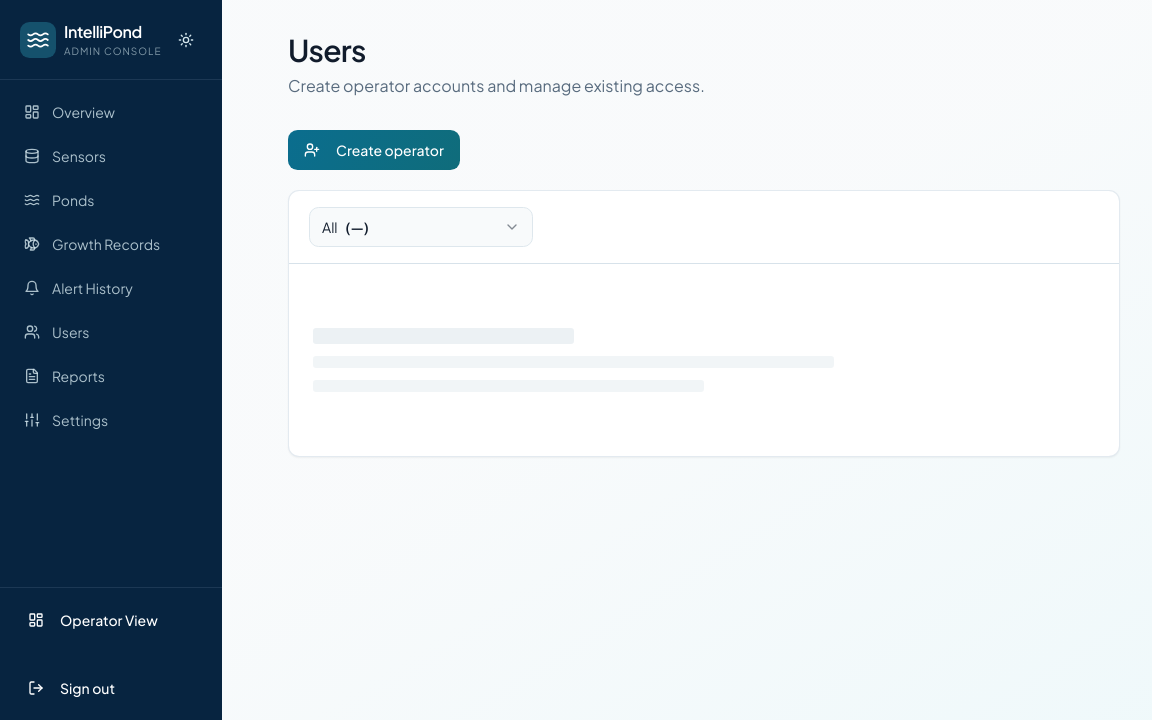
Test case: admin operator creation › submits a new account and closes the form
Click the button "Create operator" at (374, 150), box [288,130,460,170]
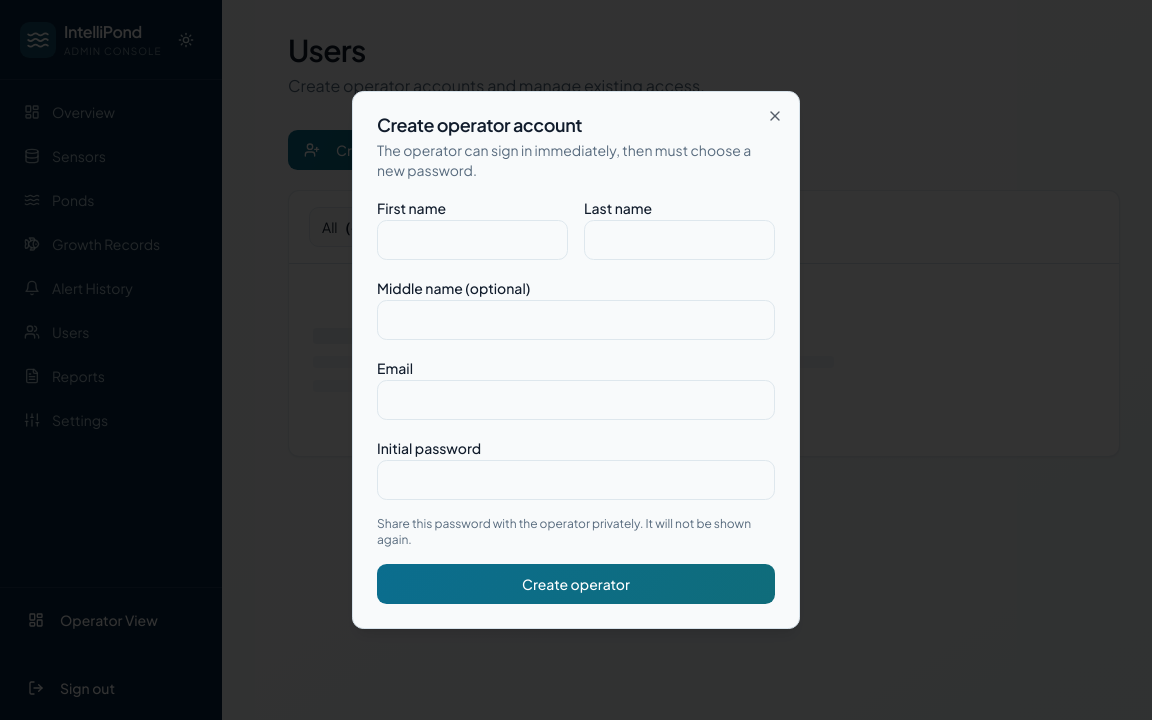
Type "Alex" into the field labelled "First name" at (472, 240), box [377,220,568,260]
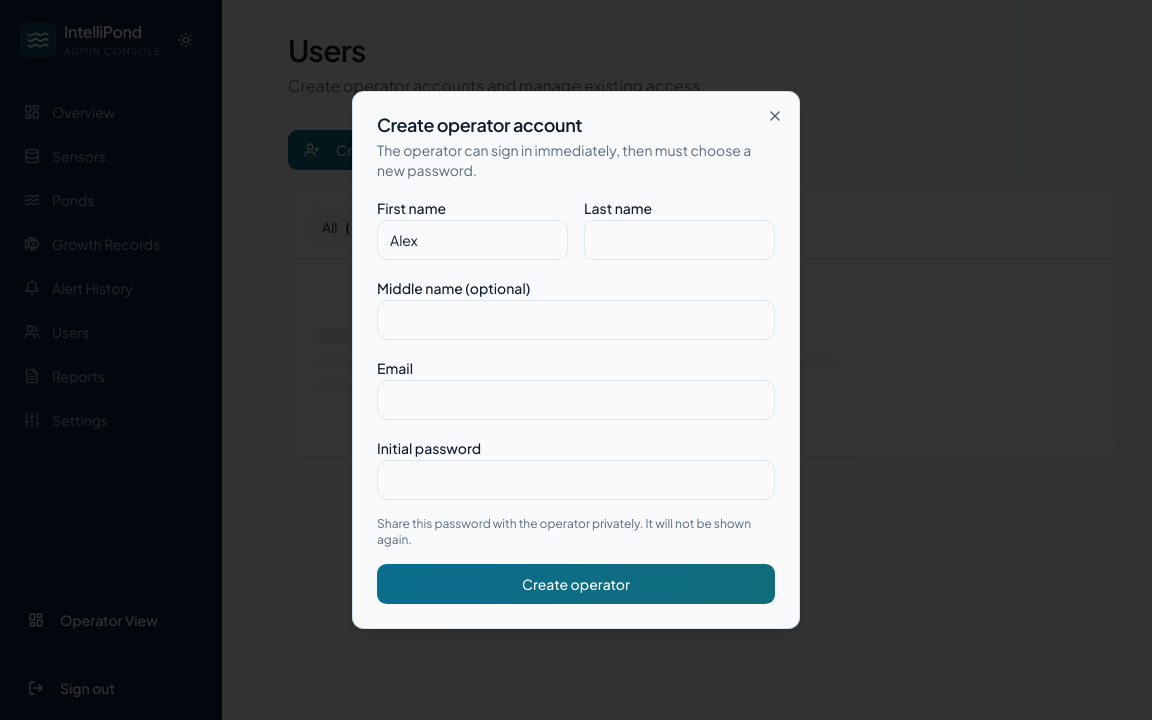
Type "Operator" into the field labelled "Last name" at (680, 240), box [584,220,775,260]
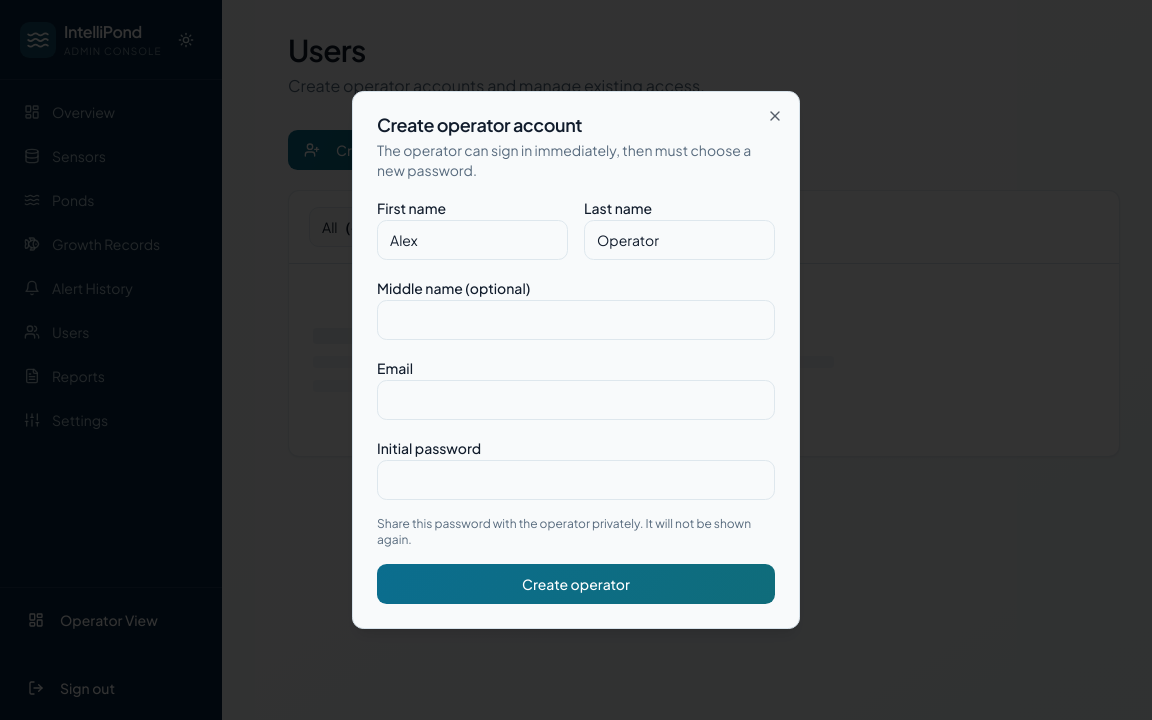
Type "alex@example.com" into the field labelled "Email" at (576, 400), box [377,380,775,420]
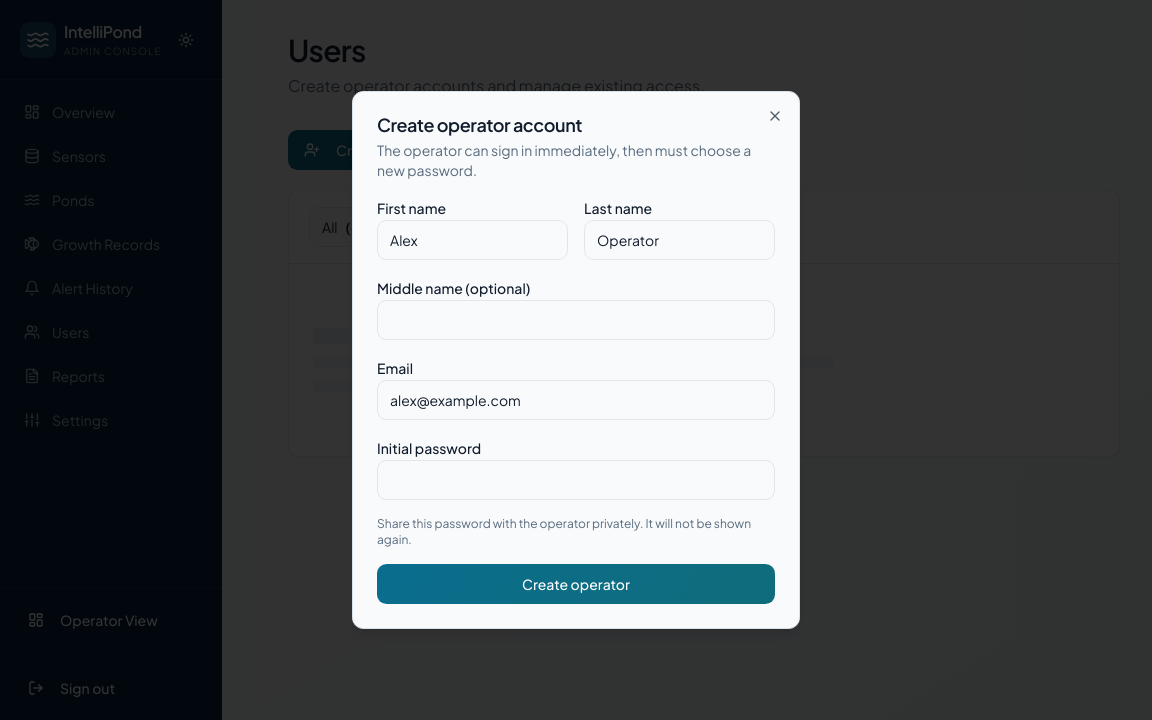
Type "initial-pass-123" into the password field labelled "Initial password" at (576, 480), box [377,460,775,500]
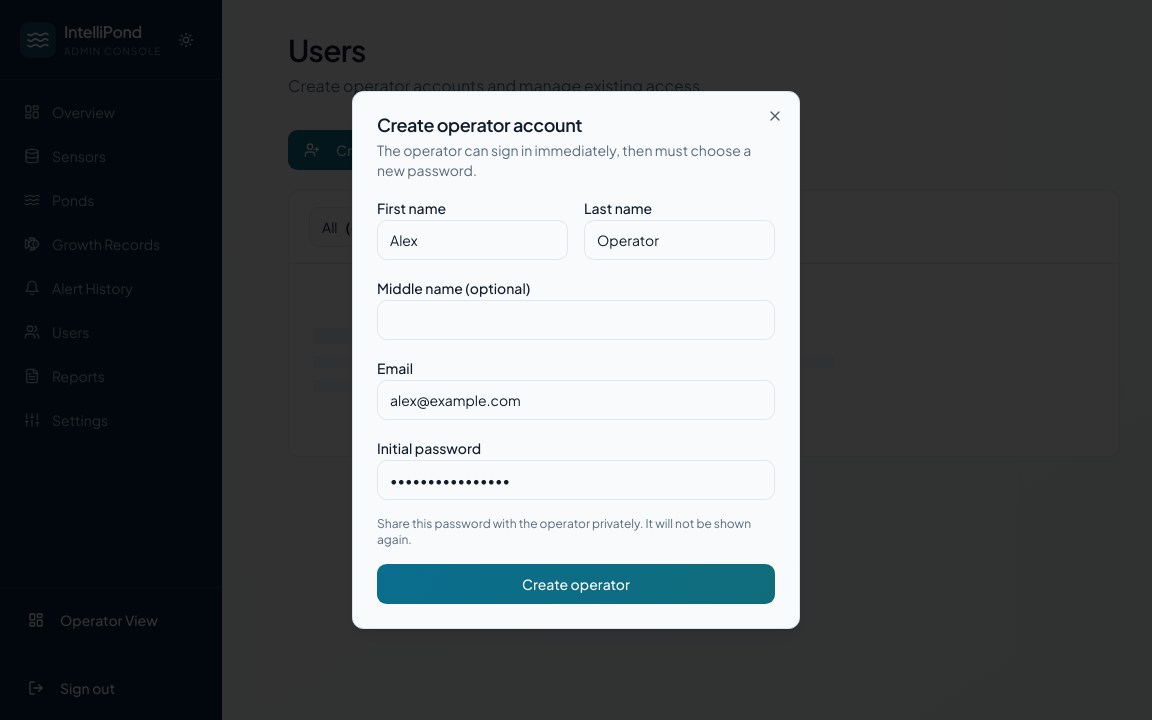
Click the button "Create operator" at (576, 584), box [377,564,775,604]
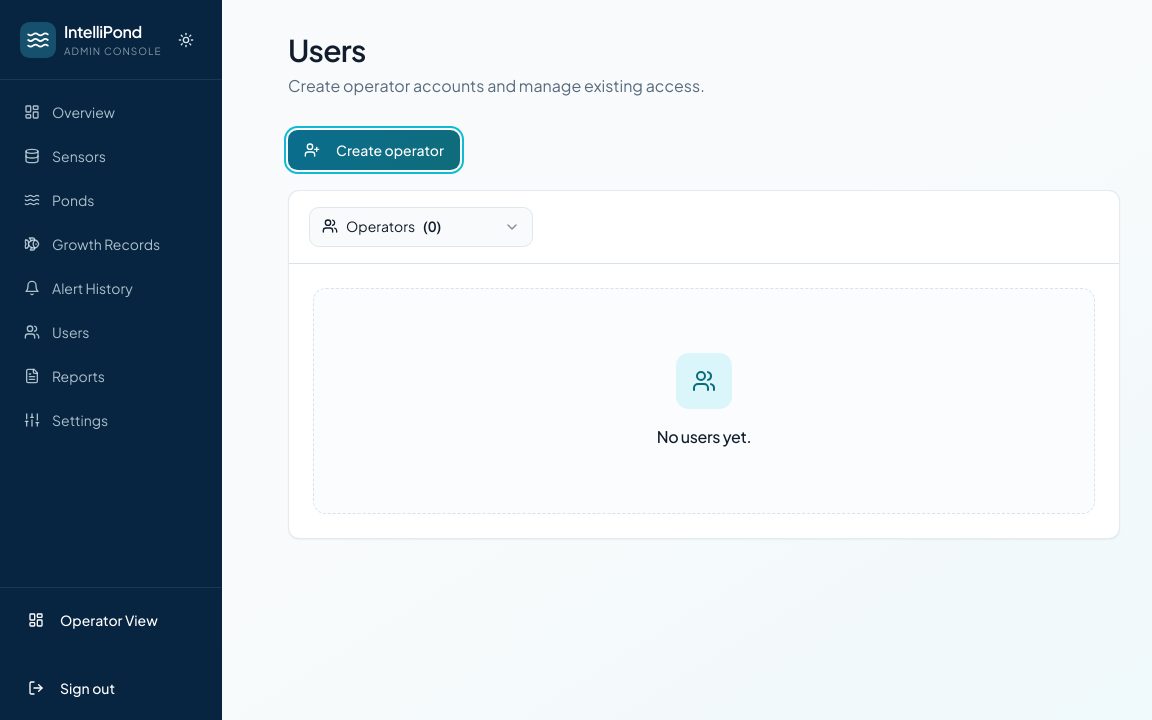
Result: the dialog is gone
